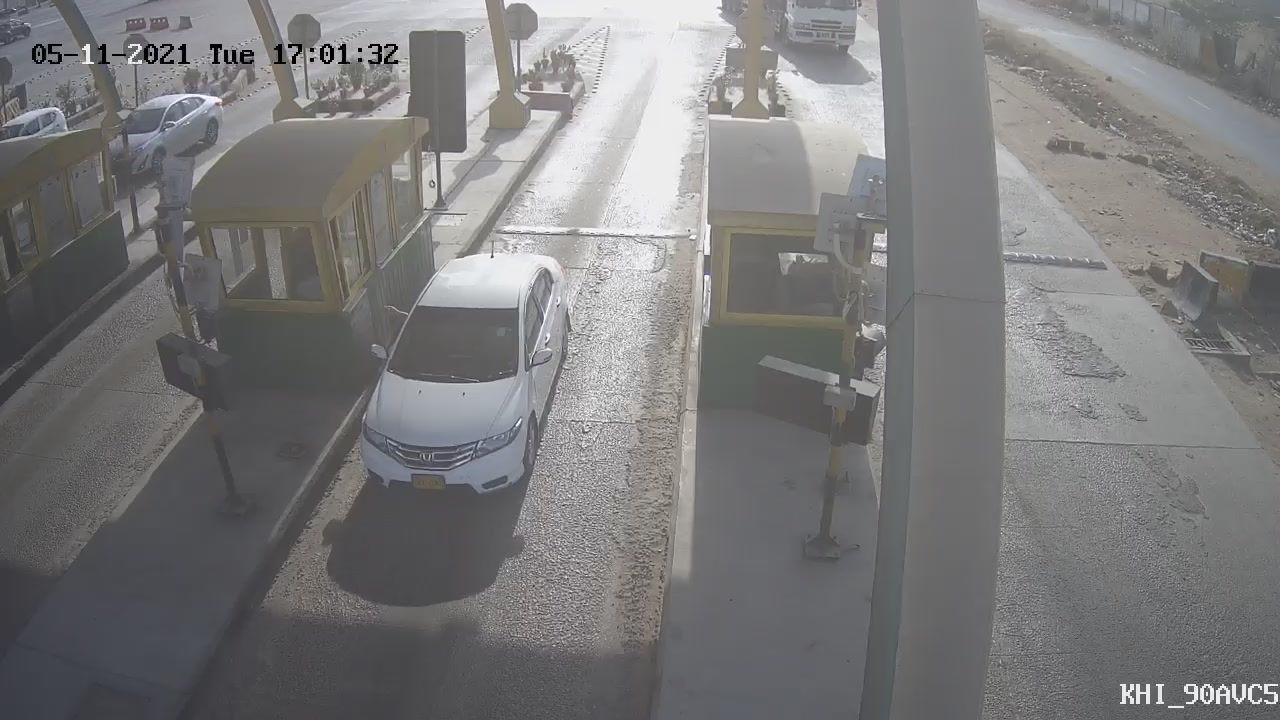F1: (325, 225, 596, 530)
